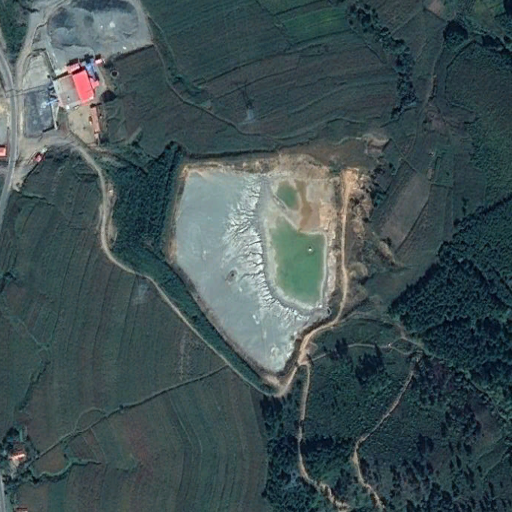tp: (161, 155, 345, 375)
